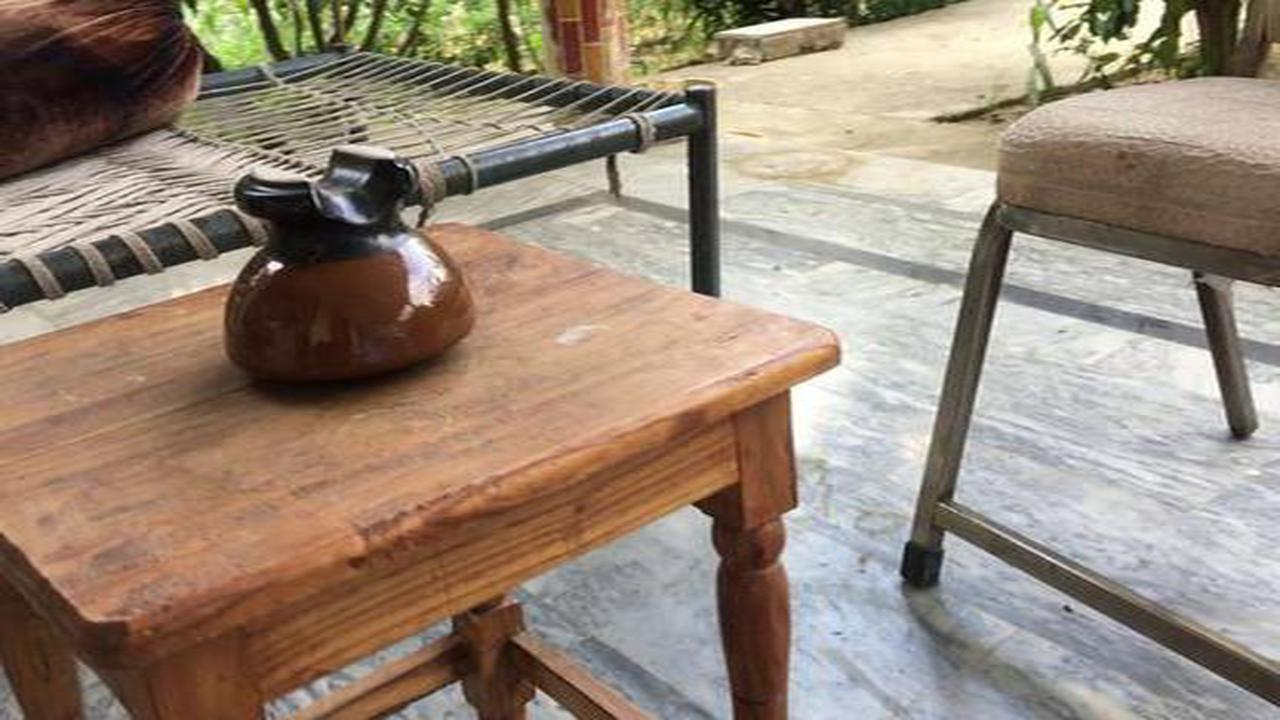insulator_pin: (201, 144, 487, 404)
